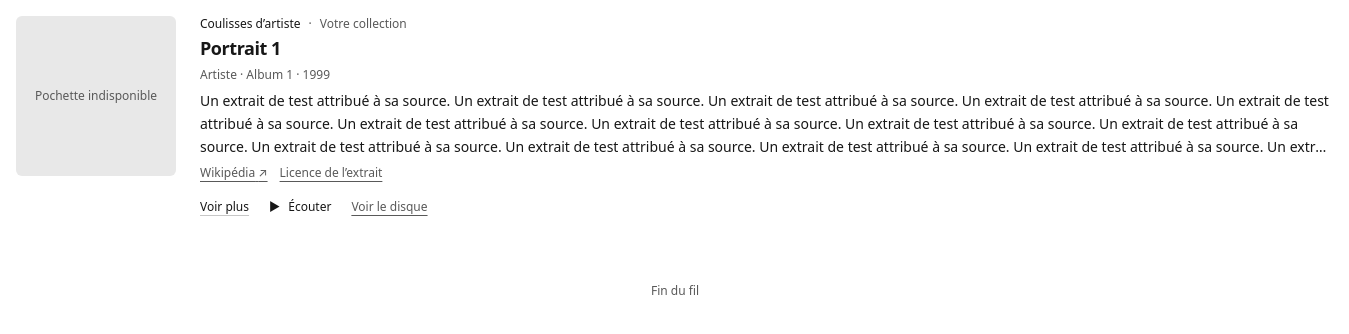
Test: reste utilisable si le navigateur refuse le stockage de la position
Click the button "Voir plus" at x=224, y=206, box [200,186,249,226]
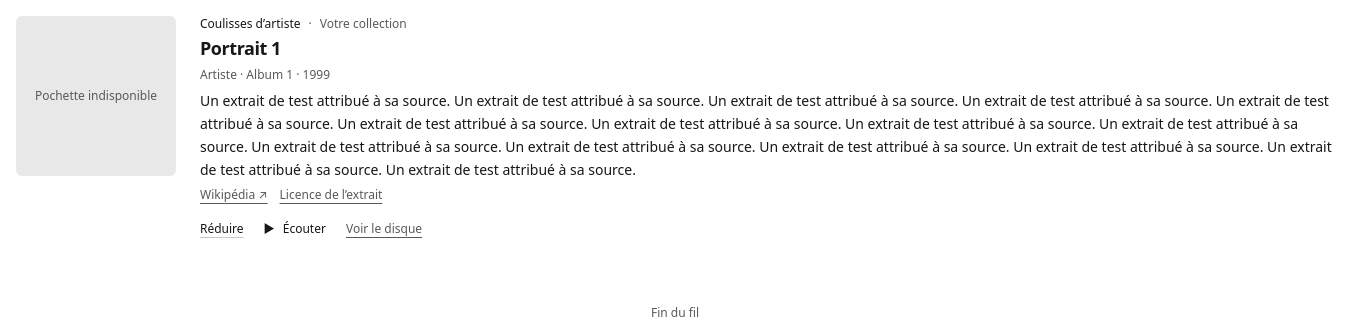
Now the button "Réduire" is expanded, box [200,209,244,249]
